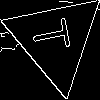T: (30, 15, 79, 54)
